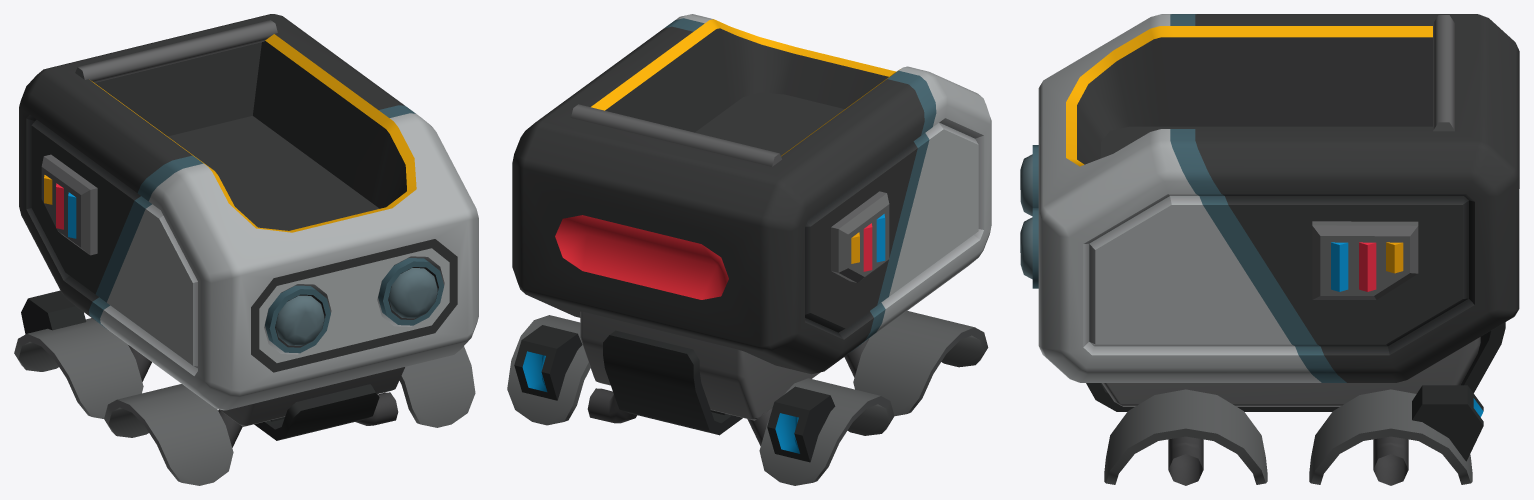
The model's file is Cargo_Drone_002.fbx.
3 renders of one model, left to right at view 1: azimuth 30°, elevation 25°; view 2: azimuth 150°, elevation 25°; view 3: azimuth 270°, elevation 25°, orthographic. The views are drawn at different scales.
Parts seen in each view (by area): view 1: Cargo_Drone_002; view 2: Cargo_Drone_002; view 3: Cargo_Drone_002.
Boxes of the visible parts, left/top/right/bottom form: Cargo_Drone_002: left=14, top=14, right=478, bottom=485; Cargo_Drone_002: left=507, top=14, right=991, bottom=485; Cargo_Drone_002: left=1020, top=14, right=1519, bottom=485.
Bounding box in the file's own units: 64.31 × 76.27 × 60.9.
